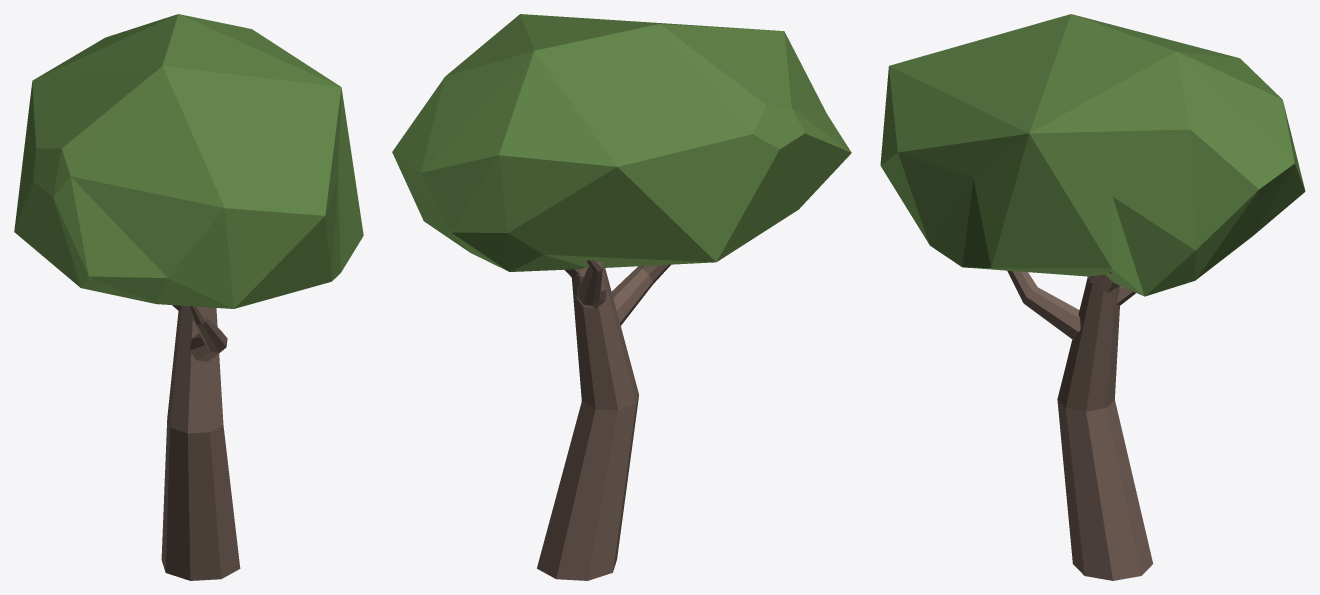
Rendered from Tree2.fbx.
The picture shows the model from 3 angles, left to right: view 1: azimuth 30°, elevation 25°; view 2: azimuth 150°, elevation 25°; view 3: azimuth 270°, elevation 25°; orthographic projection. The views are drawn at different scales.
Parts seen in each view (by area): view 1: Cube; view 2: Cube; view 3: Cube.
Boxes of the visible parts, x1=… form: Cube: x1=14, y1=14, x2=363, y2=580; Cube: x1=392, y1=14, x2=851, y2=580; Cube: x1=880, y1=14, x2=1305, y2=580.
Bounding box in the file's own units: 385 × 601 × 444.
Materials: 1 (1 with a texture image).
